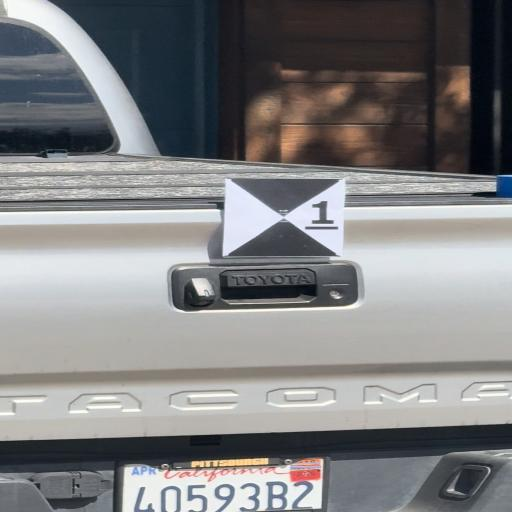target1: (227, 179, 342, 256)
